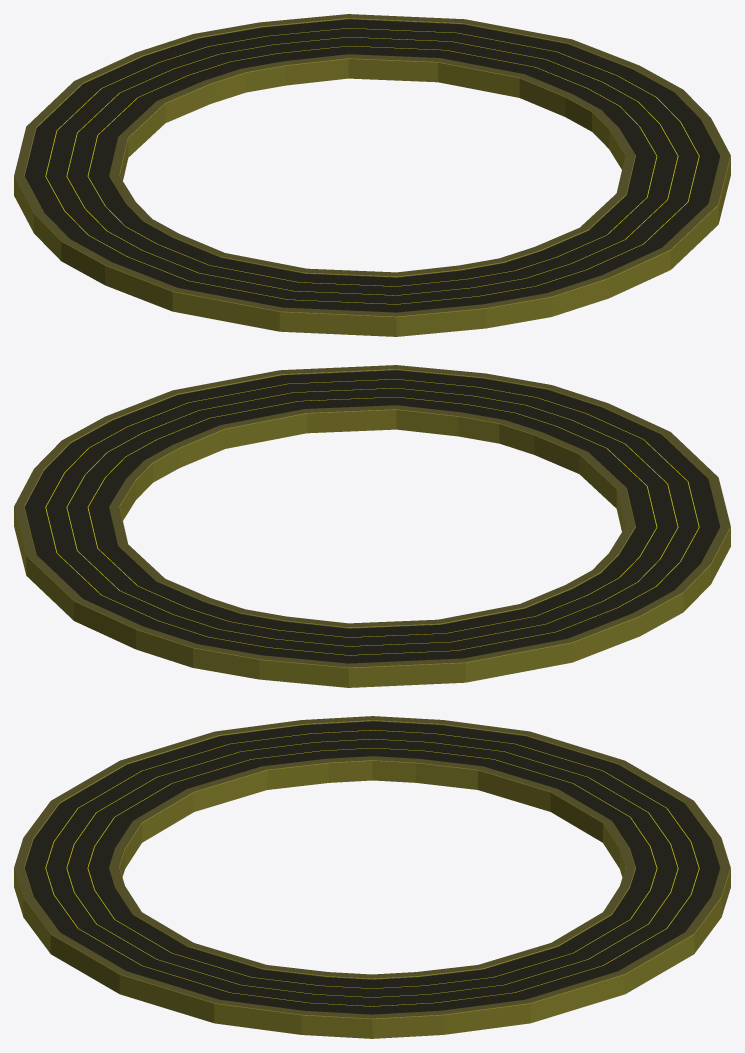
The model's file is Curva.obj.
3 views of the same model, one above another, from view 1: azimuth 30°, elevation 25°; view 2: azimuth 150°, elevation 25°; view 3: azimuth 270°, elevation 25° (orthographic).
Visible parts, largest first — view 1: Freeway_Curve_2_Model_Circle.003, Freeway_Curve_2_Model_Circle.001, Freeway_Curve_2_Model_Circle.002, Freeway_Curve_2_Model_Circle.006; view 2: Freeway_Curve_2_Model_Circle.006, Freeway_Curve_2_Model_Circle.002, Freeway_Curve_2_Model_Circle.001, Freeway_Curve_2_Model_Circle.003; view 3: Freeway_Curve_2_Model_Circle.001, Freeway_Curve_2_Model_Circle.002, Freeway_Curve_2_Model_Circle.003, Freeway_Curve_2_Model_Circle.006.
Boxes of the visible parts, x1=… form: Freeway_Curve_2_Model_Circle.003: x1=61, y1=219, x2=552, y2=336; Freeway_Curve_2_Model_Circle.001: x1=193, y1=14, x2=682, y2=131; Freeway_Curve_2_Model_Circle.002: x1=500, y1=89, x2=730, y2=316; Freeway_Curve_2_Model_Circle.006: x1=14, y1=34, x2=245, y2=260; Freeway_Curve_2_Model_Circle.006: x1=193, y1=570, x2=683, y2=687; Freeway_Curve_2_Model_Circle.002: x1=62, y1=365, x2=551, y2=482; Freeway_Curve_2_Model_Circle.001: x1=14, y1=440, x2=244, y2=667; Freeway_Curve_2_Model_Circle.003: x1=499, y1=385, x2=730, y2=611; Freeway_Curve_2_Model_Circle.001: x1=372, y1=867, x2=730, y2=1038; Freeway_Curve_2_Model_Circle.002: x1=14, y1=867, x2=372, y2=1038; Freeway_Curve_2_Model_Circle.003: x1=14, y1=716, x2=372, y2=876; Freeway_Curve_2_Model_Circle.006: x1=372, y1=716, x2=730, y2=877.
Bounding box in the file's own units: 170 × 5.25 × 170.
Materials: 1 (1 with a texture image).
